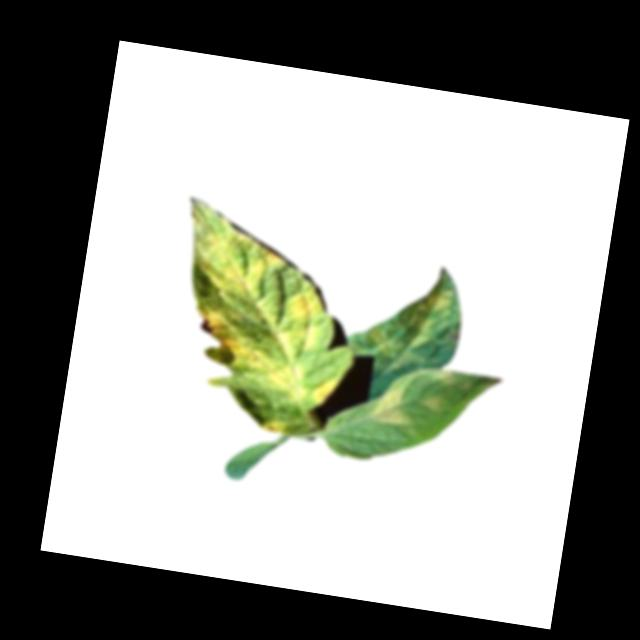Leaf_Mold: (154, 197, 365, 442), (361, 266, 460, 380), (366, 374, 414, 428), (416, 391, 448, 415)
